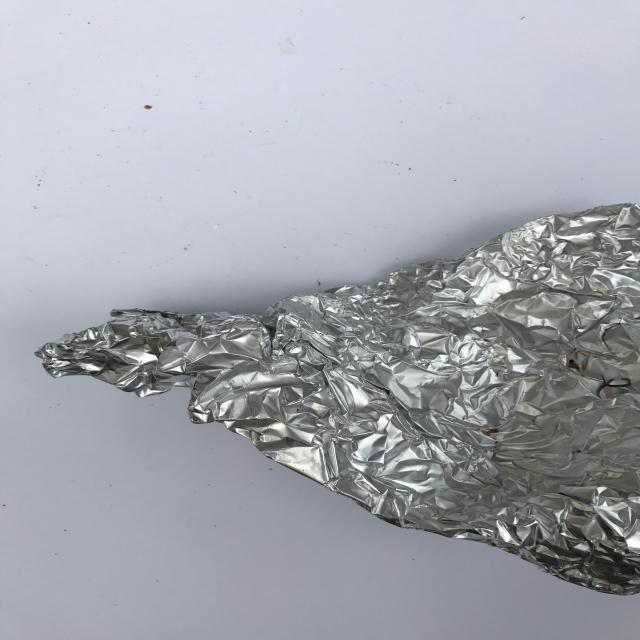metal: (39, 202, 640, 594)
